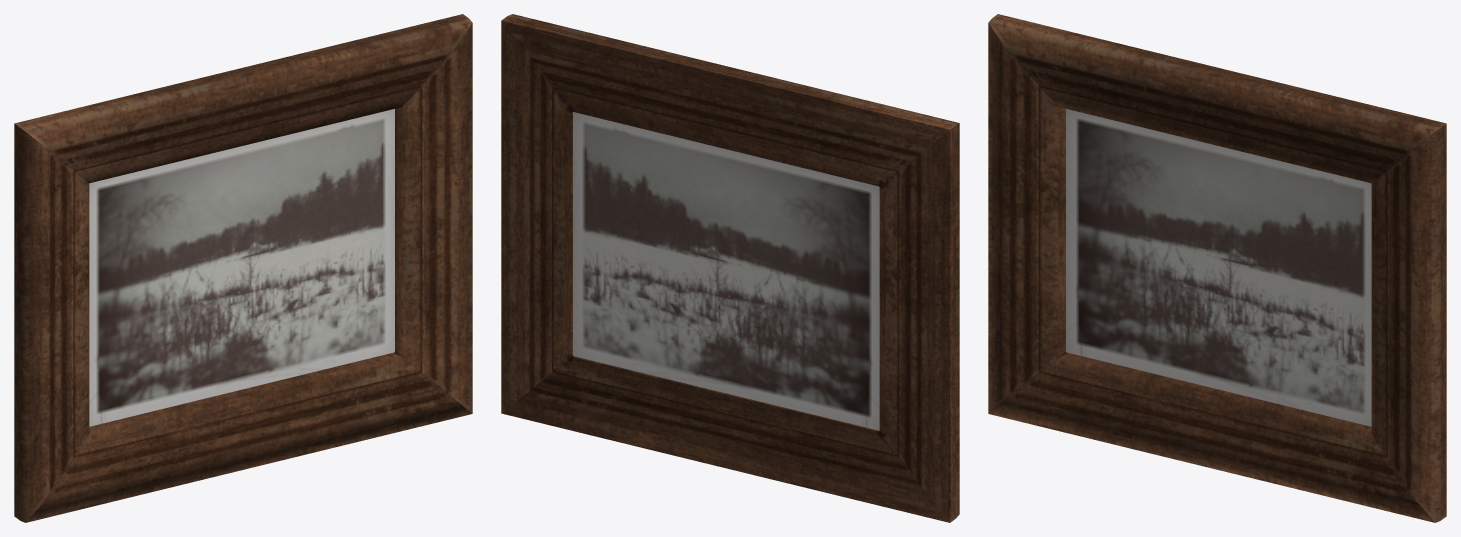
Rendered from Picture_13_Small_Framed.FBX.
3 renders of one model, left to right at view 1: azimuth 30°, elevation 25°; view 2: azimuth 150°, elevation 25°; view 3: azimuth 330°, elevation 25°, orthographic.
Parts seen in each view (by area): view 1: Picture_13_Small_Framed; view 2: Picture_13_Small_Framed; view 3: Picture_13_Small_Framed.
Boxes of the visible parts, box(x1,y1,x2,y2) form: Picture_13_Small_Framed: box(14, 14, 472, 522); Picture_13_Small_Framed: box(501, 14, 959, 522); Picture_13_Small_Framed: box(988, 14, 1446, 522).
Bounding box in the file's own units: 53.53 × 44.79 × 2.5.
